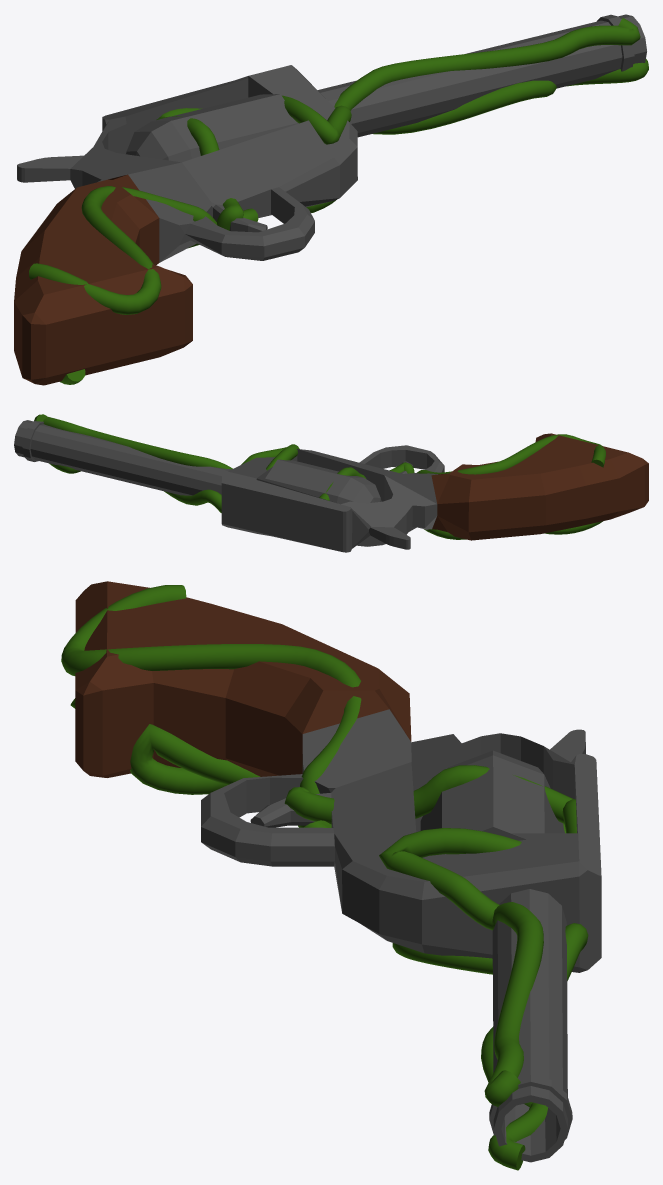
Rendered from GunRevolver.fbx.
The picture shows the model from 3 angles, top to bottom: view 1: azimuth 30°, elevation 25°; view 2: azimuth 150°, elevation 25°; view 3: azimuth 270°, elevation 25°; orthographic projection. The views are drawn at different scales.
Parts seen in each view (by area): view 1: Main, BezierCurve.001, Revolver, Bullets; view 2: Main, Revolver, BezierCurve.001, Bullets; view 3: Main, BezierCurve.001, Revolver, Bullets.
Part boxes in pixels (x1,y1,x2,y2): Main: (14,65,357,385); BezierCurve.001: (29,18,648,384); Revolver: (317,14,646,137); Bullets: (126,94,298,162); Main: (221,433,648,552); Revolver: (14,420,231,495); BezierCurve.001: (34,414,605,539); Bullets: (264,459,381,504); Main: (75,581,601,972); BezierCurve.001: (61,585,588,1170); Revolver: (489,889,572,1162); Bullets: (420,750,564,840).
Size of the model in its own units: 101 by 225 by 31.34.
